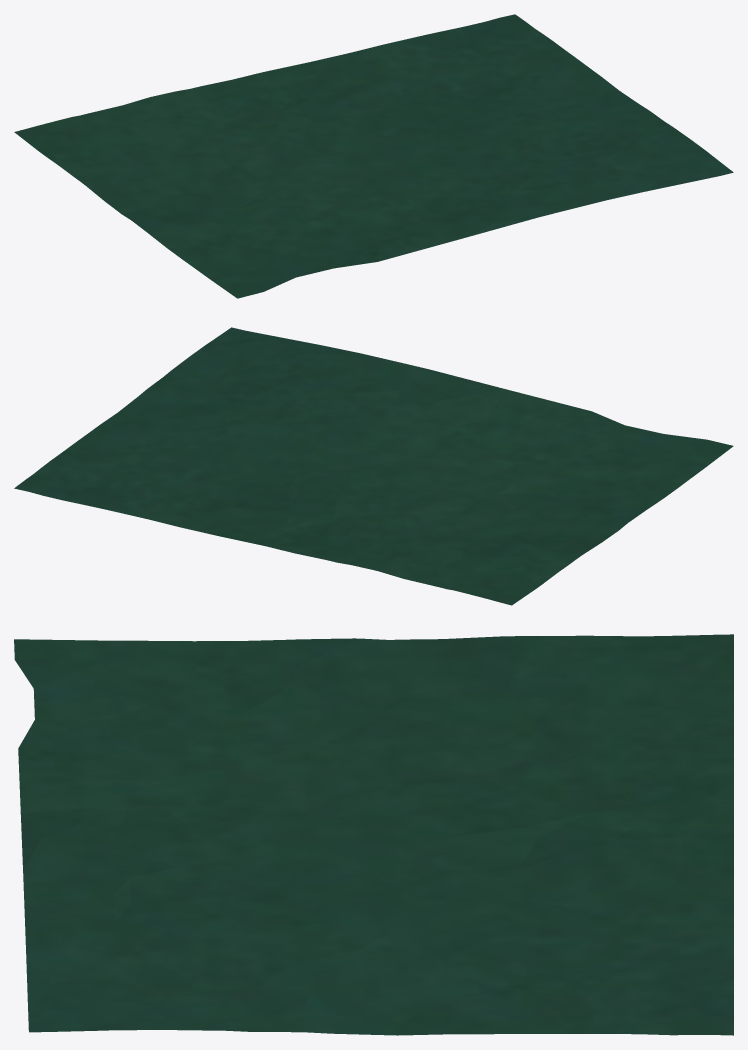
3 views of the same model, one above another, from view 1: azimuth 30°, elevation 25°; view 2: azimuth 150°, elevation 25°; view 3: azimuth 270°, elevation 25° (orthographic). The views are drawn at different scales.
Bounding box in the file's own units: 52.22 × 0.7733 × 40.34.
2 materials, 2 textured.
